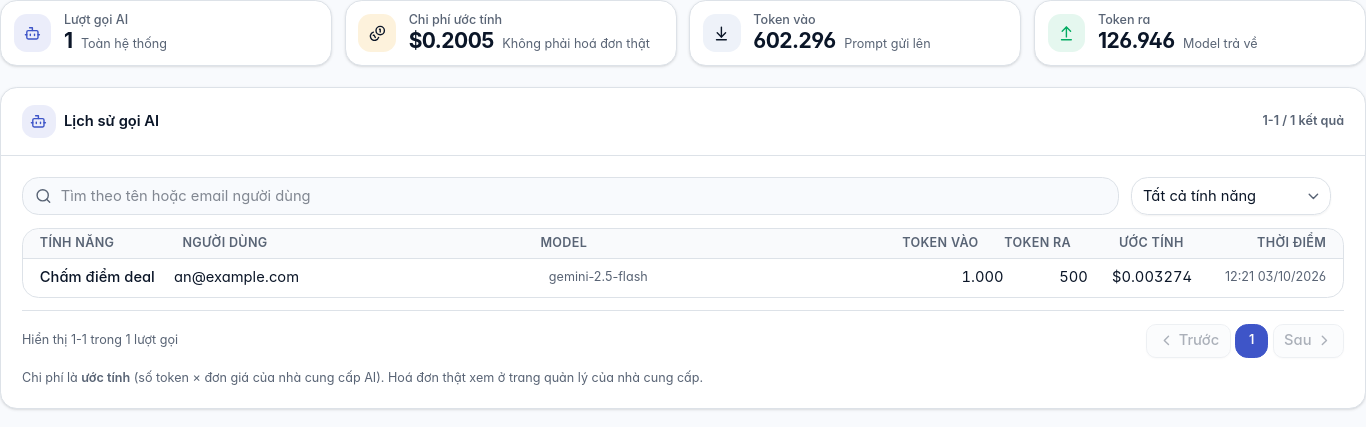
Test case: <AdminAiCostsPage /> — tìm kiếm và lọc › chọn tính năng thì ô chọn ghi nhãn tiếng Việt (không ghi mã) và lọc theo tính năng đó
Click the dropdown named "Lọc tính năng" at (1231, 196), box [1131,177,1331,215]
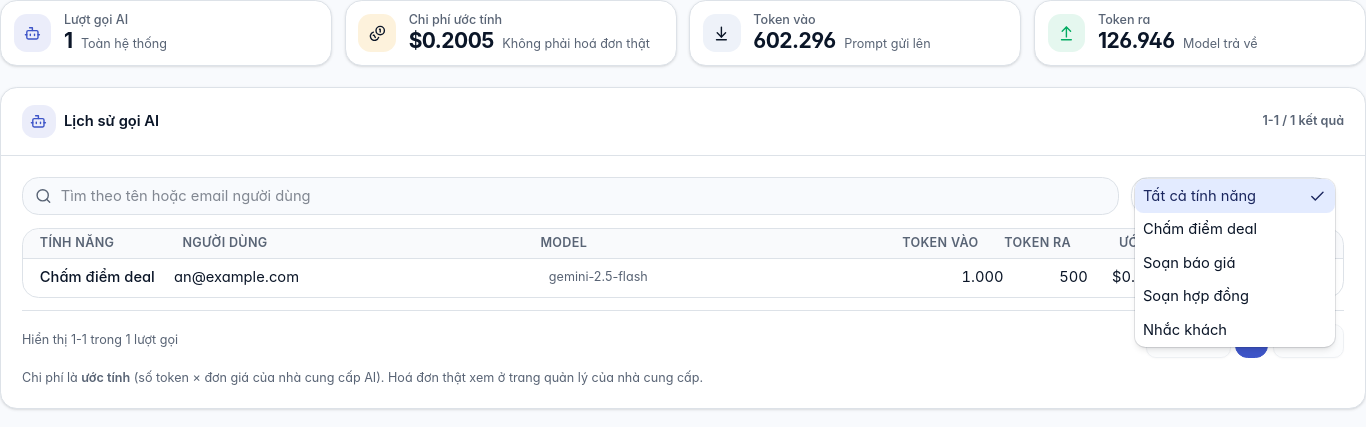
Click the option "Soạn báo giá" at (1189, 263), box [1143,254,1235,272]
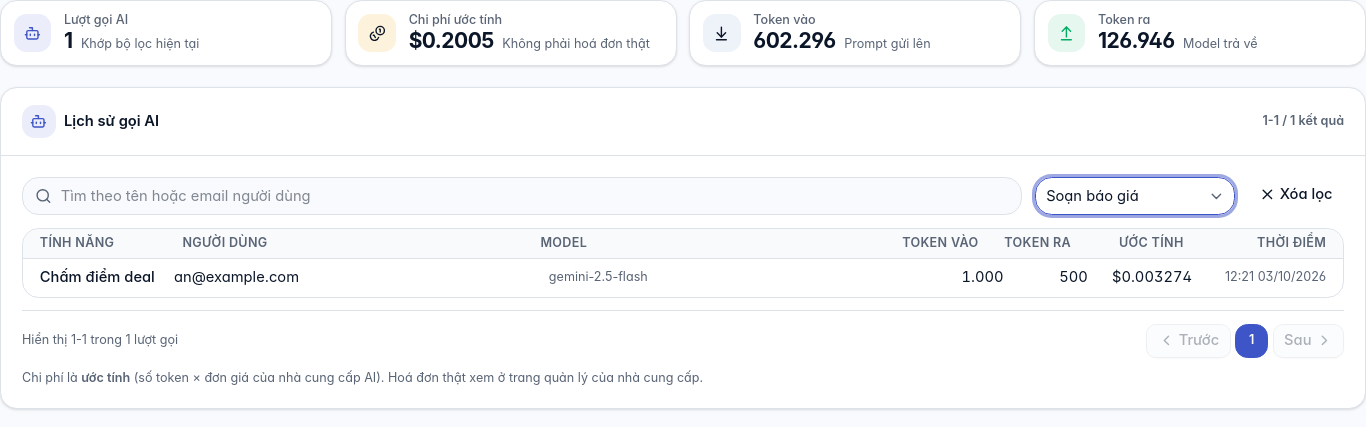
Expected: the dropdown named "Lọc tính năng" does not show "proposal_generator", [1035,177,1235,215]
Expected: the dropdown named "Lọc tính năng" shows "Soạn báo giá", [1035,177,1235,215]
